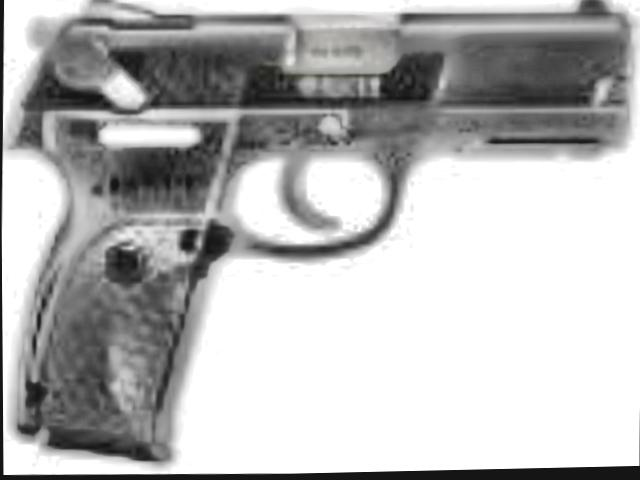pistol: (0, 0, 631, 465)
